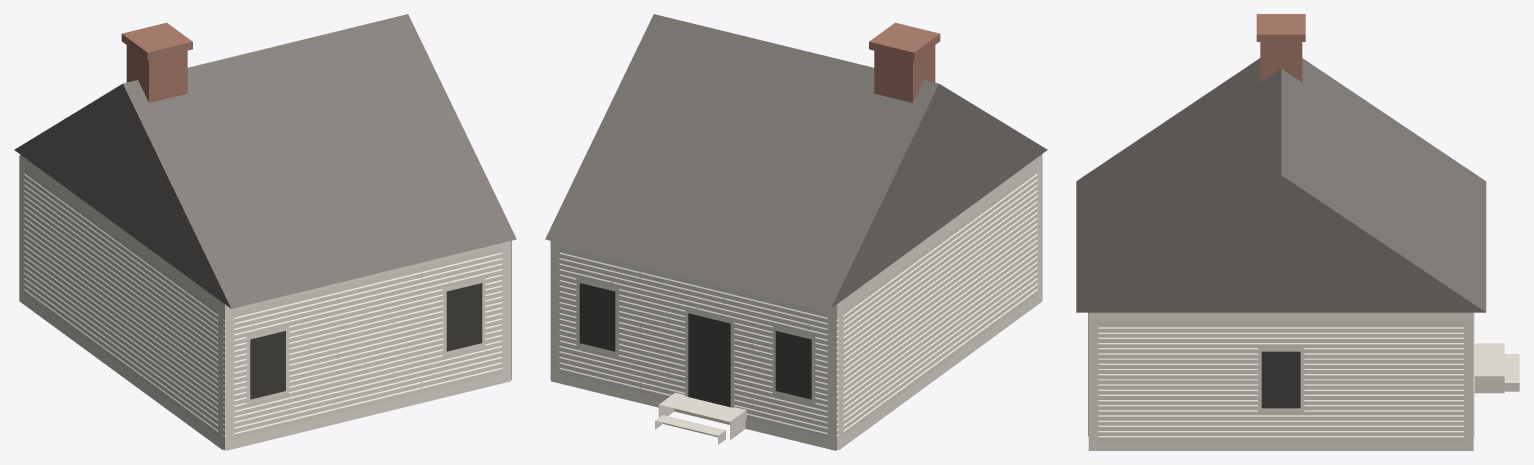
The model's file is recon_1835_blk_south_water_clark_d4_02__inferred_1835.glb.
3 renders of one model, left to right at view 1: azimuth 30°, elevation 25°; view 2: azimuth 150°, elevation 25°; view 3: azimuth 270°, elevation 25°, orthographic. The views are drawn at different scales.
Parts seen in each view (by area): view 1: recon_1835_blk_south_water_clark_d4_02__inferred_1835; view 2: recon_1835_blk_south_water_clark_d4_02__inferred_1835; view 3: recon_1835_blk_south_water_clark_d4_02__inferred_1835.
Part boxes in pixels (box(x1,y1,x2,y2)): recon_1835_blk_south_water_clark_d4_02__inferred_1835: box(14, 14, 516, 450); recon_1835_blk_south_water_clark_d4_02__inferred_1835: box(545, 14, 1047, 450); recon_1835_blk_south_water_clark_d4_02__inferred_1835: box(1076, 14, 1519, 450).
Size of the model in its own units: 6.28 by 6.85 by 8.86.
